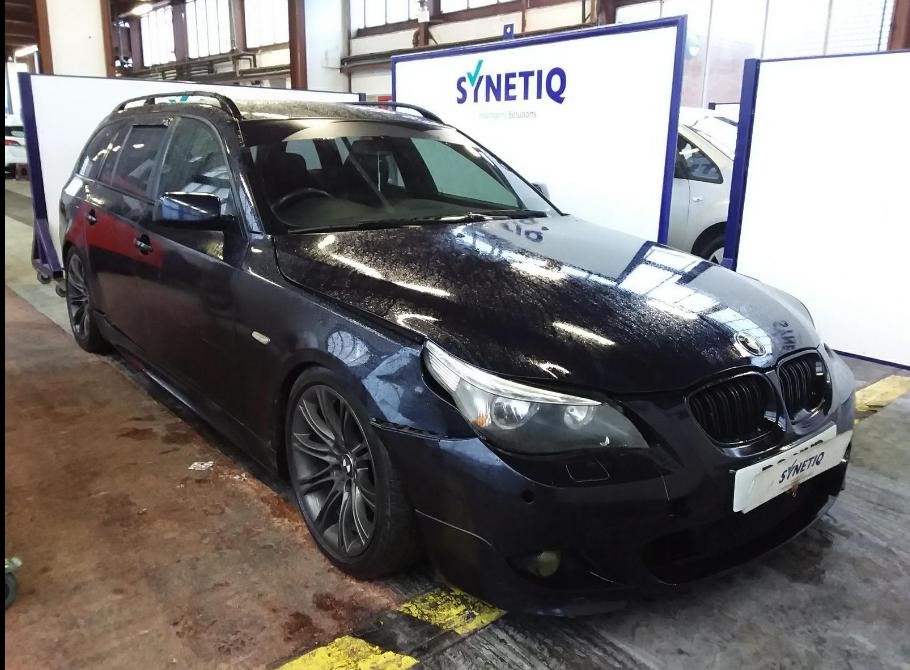Back-door: (85, 111, 177, 351)
Back-wheel: (65, 246, 111, 353)
Back-window: (112, 114, 173, 196), (77, 115, 131, 179), (99, 119, 135, 184)
Fender: (234, 231, 479, 453)
Front-bumper: (369, 338, 857, 616)
Front-door: (135, 113, 252, 423)
Front-wheel: (285, 365, 425, 580)
Front-window: (159, 117, 238, 217)
Grille: (683, 349, 833, 458)
Headlight: (420, 337, 650, 456)
Hood: (276, 216, 819, 391)
License-plate: (734, 420, 853, 515)
Mirror: (152, 192, 248, 267), (527, 182, 550, 201)
Quarter-panel: (58, 172, 94, 309)
Rocker-panel: (91, 306, 281, 480)
Roof: (105, 92, 459, 130)
Windshield: (238, 118, 561, 232)
